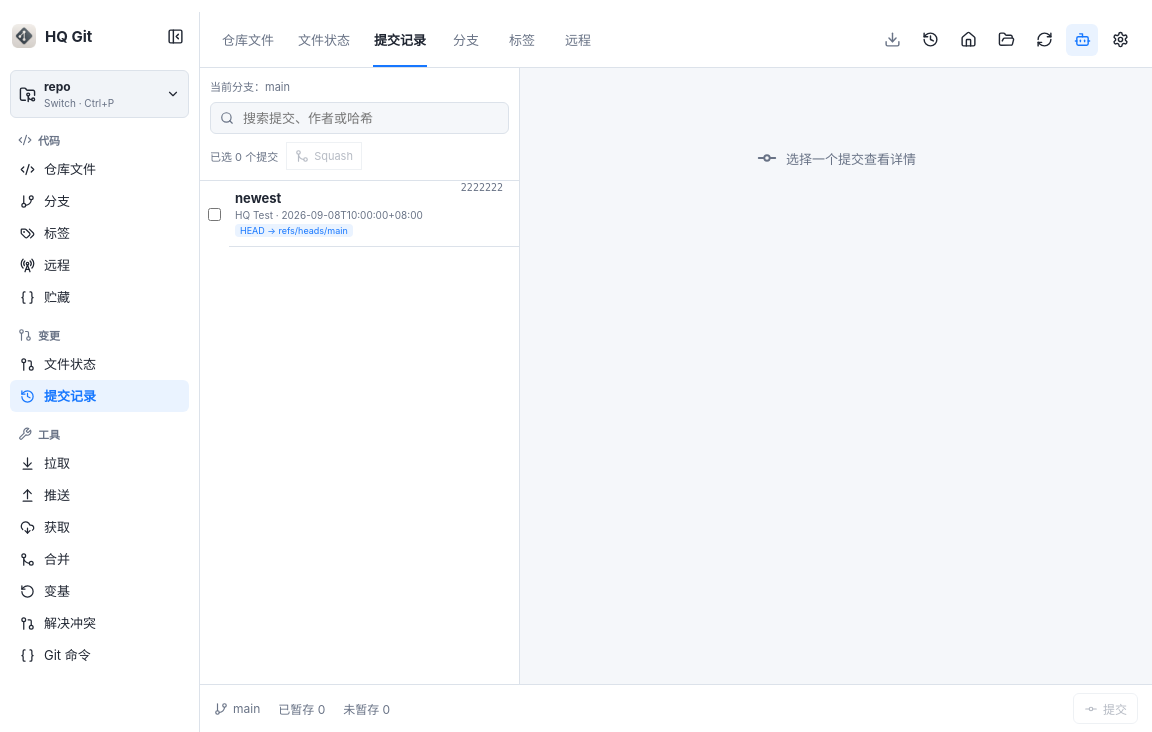
Test: history workbench › loads metadata, navigates to a parent, and shows binary file output
Click the button that starts with "newest" at (374, 214), box [229,181,519,247]
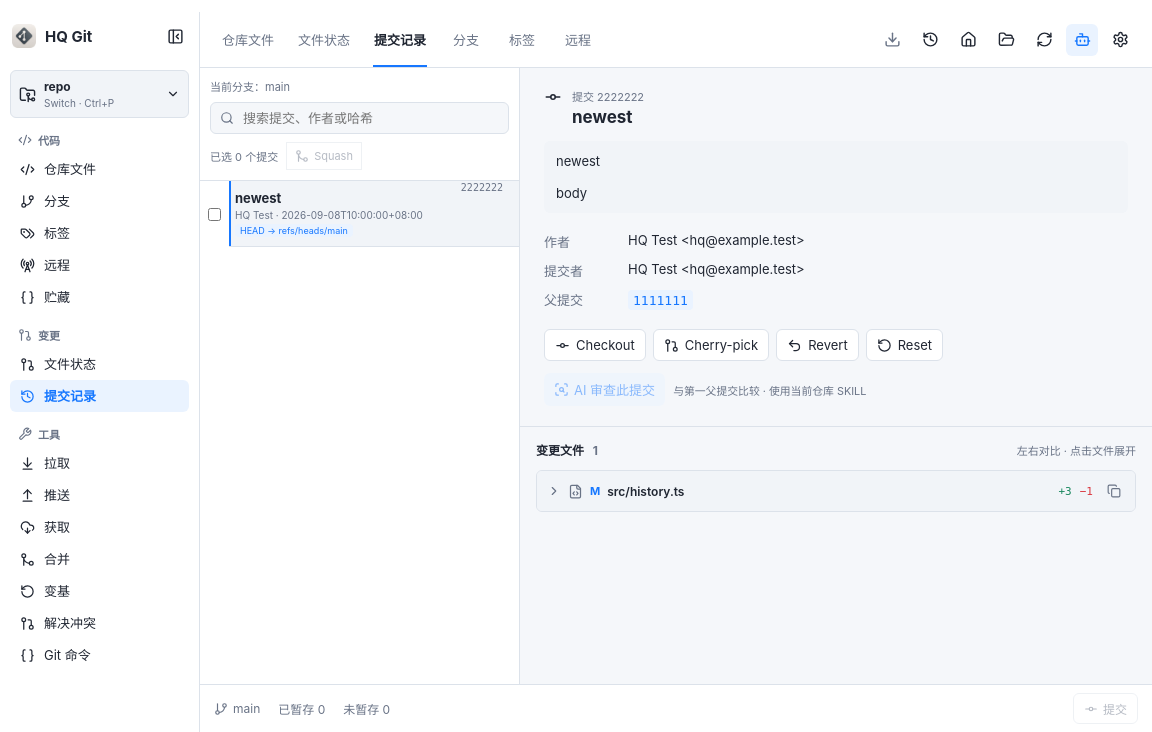
Expected: the text "newest" is shown, [235,190,281,206]
Expected: the text "src/history.ts" is shown, [607,484,684,498]
Click the button named "查看父提交 1111111" at (660, 300), box [628,290,693,310]
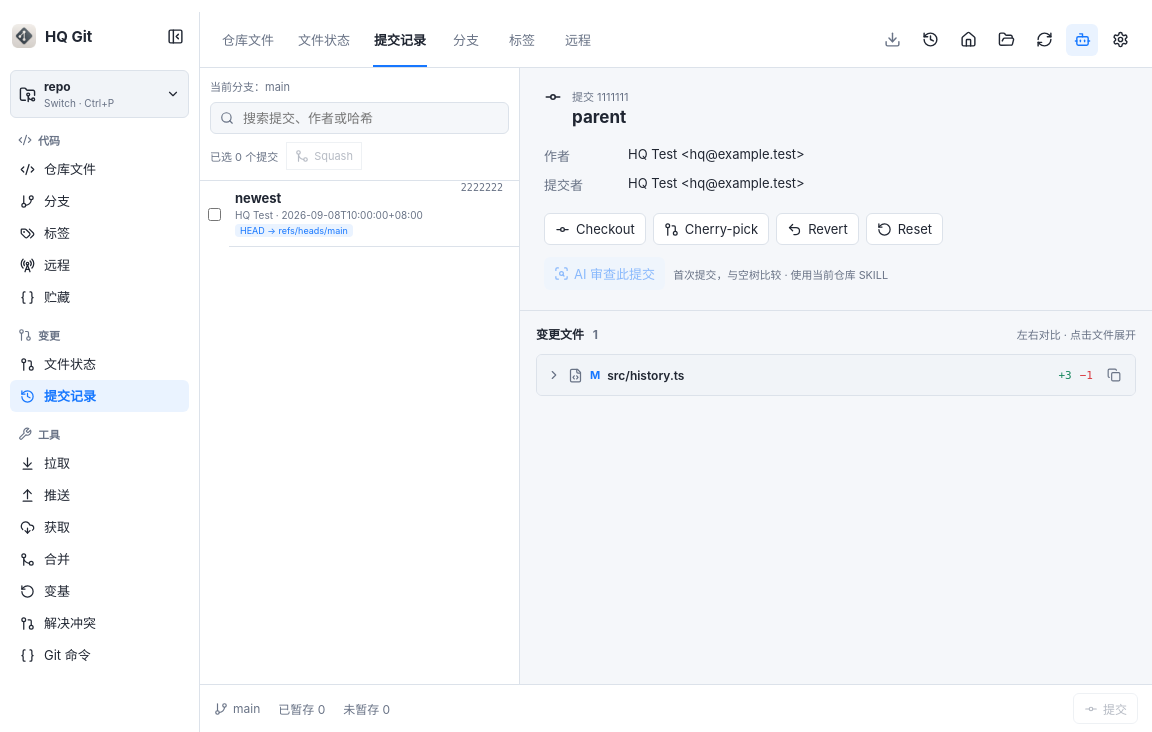
Click the button that starts with "newest" at (374, 214), box [229,181,519,247]
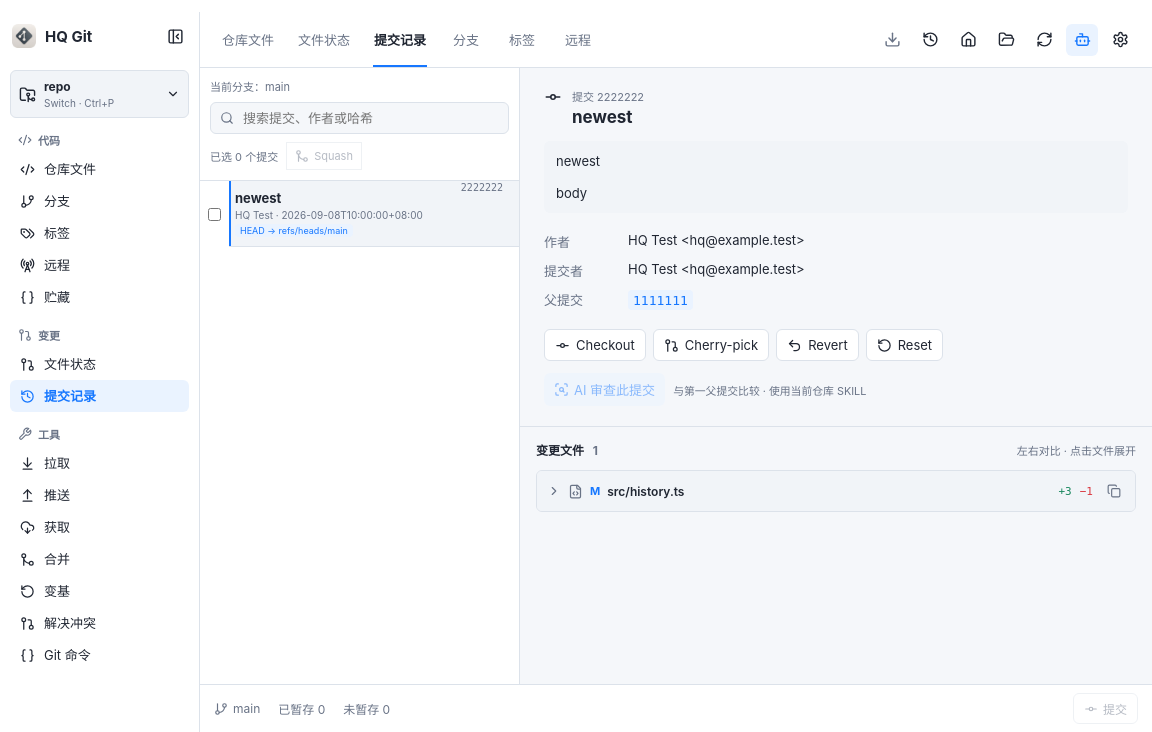
Click the button with aria-label "查看提交文件 src/history.ts" at (646, 491), box [537,474,1052,508]
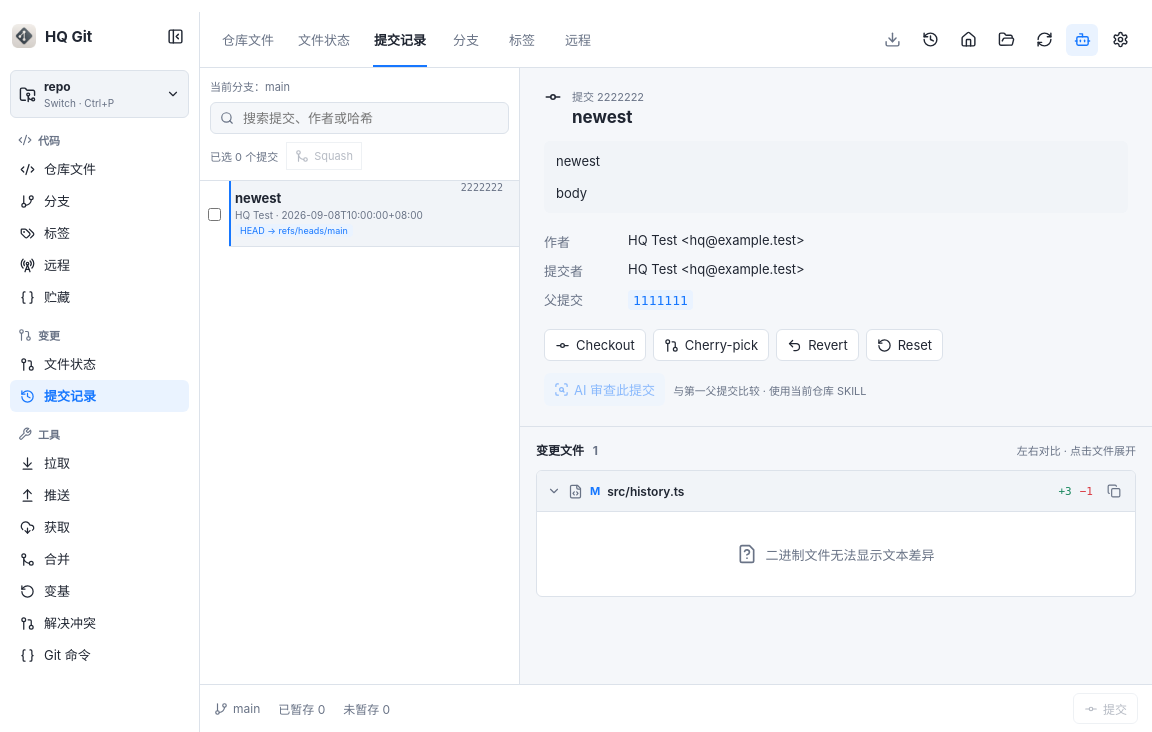
Expected: the text "二进制文件无法显示文本差异" is shown, [738,544,934,564]
